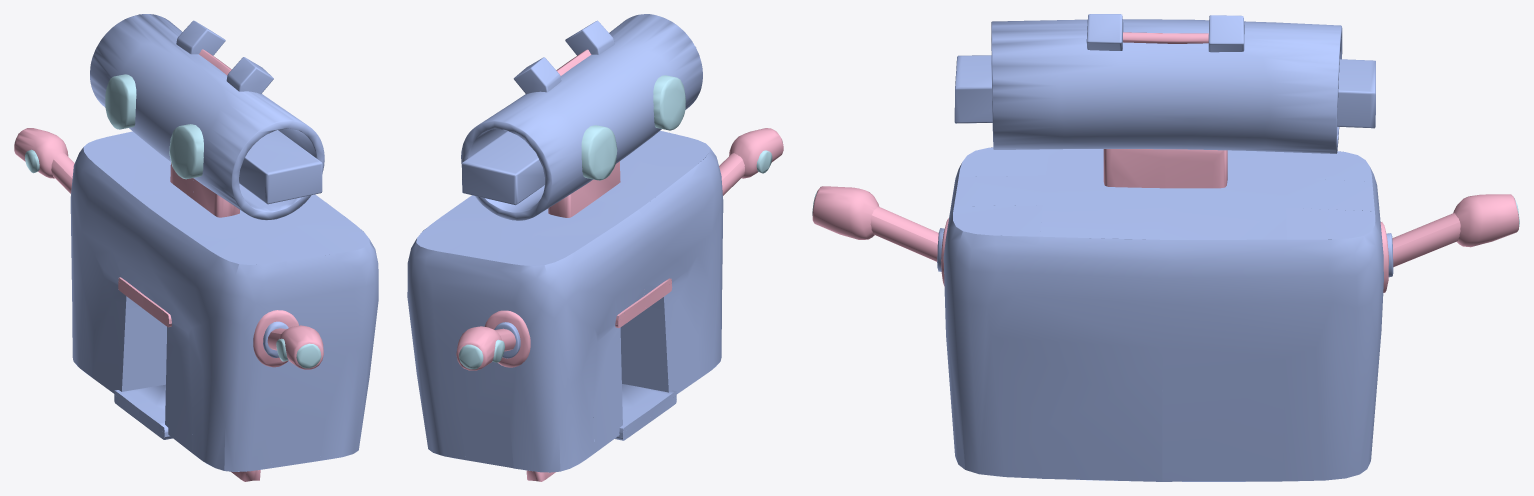
The picture shows the model from 3 angles, left to right: view 1: azimuth 30°, elevation 25°; view 2: azimuth 150°, elevation 25°; view 3: azimuth 270°, elevation 25°; orthographic projection. The views are drawn at different scales.
Parts seen in each view (by area): view 1: s.0349, s.0340, s.0360, s.0361, s.0352, s.0355, s.0359, s.0341; view 2: s.0349, s.0340, s.0360, s.0361, s.0352, s.0355, s.0359, s.0341; view 3: s.0349, s.0340, s.0360, s.0361, s.0341, s.0359, s.0348.
Boxes of the visible parts, x1,y1,x2,y2 form: s.0349: (70, 131, 378, 471); s.0340: (90, 14, 324, 220); s.0360: (14, 128, 323, 369); s.0361: (239, 130, 322, 204); s.0352: (105, 74, 203, 179); s.0355: (114, 277, 260, 481); s.0359: (176, 20, 273, 94); s.0341: (170, 162, 239, 217); s.0349: (407, 130, 723, 472); s.0340: (461, 14, 702, 220); s.0360: (456, 128, 783, 370); s.0361: (461, 46, 696, 205); s.0352: (581, 75, 685, 180); s.0355: (526, 278, 676, 481); s.0359: (513, 20, 614, 94); s.0341: (548, 161, 620, 217); s.0349: (943, 147, 1383, 481); s.0340: (991, 19, 1342, 153); s.0360: (812, 186, 1519, 292); s.0361: (954, 55, 1375, 128); s.0341: (1103, 149, 1227, 188); s.0359: (1086, 14, 1244, 52); s.0348: (1123, 32, 1208, 43).
Bounding box in the file's own units: 17.16 × 38.37 × 53.17.
